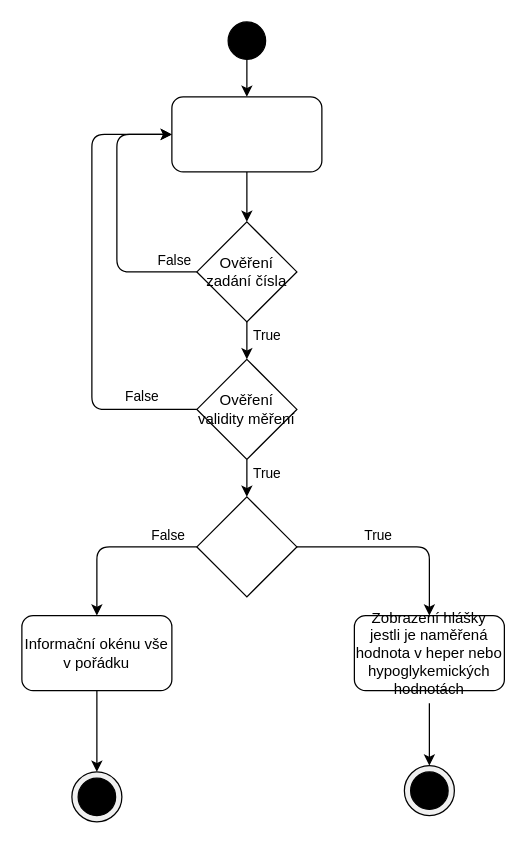
The diagram is 526 pixels wide and 844 high, and some of its shapes have lost their labels. Each missing label, with the centre of its shape:
Uživatel zadá výsledek měření glukózy: [246,134]
Vyhodnocení hyperglikemie / hypoglikemie: [246,546]
